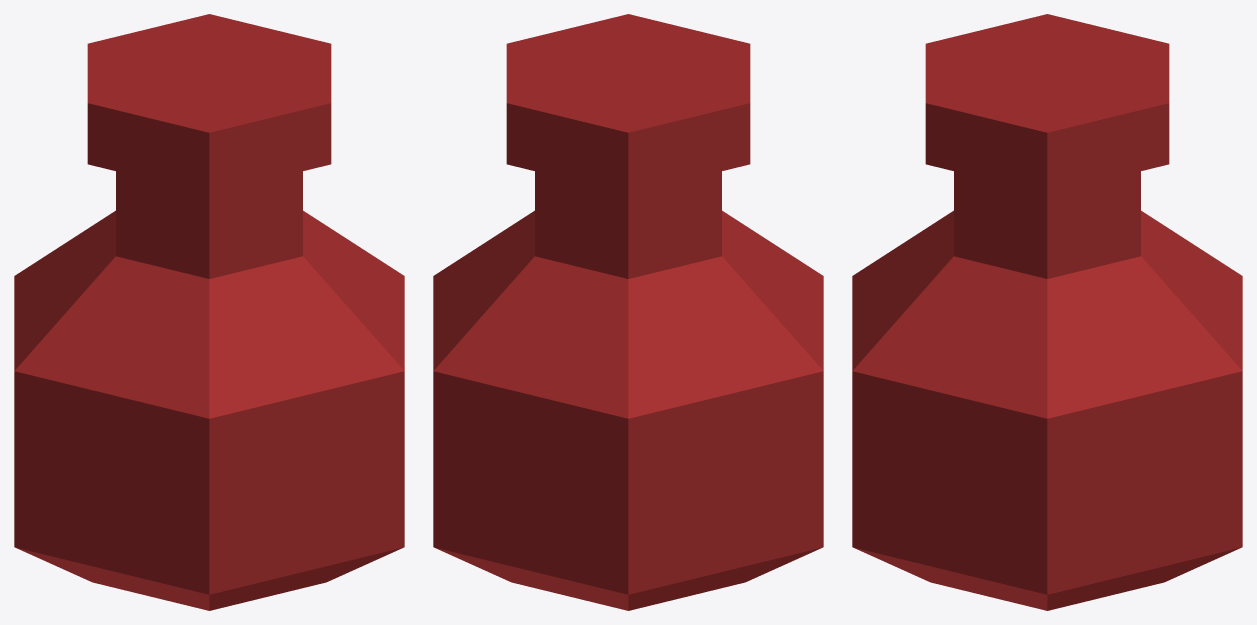
File: potion.fbx
3 renders of one model, left to right at view 1: azimuth 30°, elevation 25°; view 2: azimuth 150°, elevation 25°; view 3: azimuth 270°, elevation 25°, orthographic.
Parts seen in each view (by area): view 1: Cylinder; view 2: Cylinder; view 3: Cylinder.
Part boxes in pixels (x1,y1,x2,y2): Cylinder: (14,14,404,610); Cylinder: (433,14,823,610); Cylinder: (852,14,1242,610).
Size of the model in its own units: 100 by 118 by 86.6.
